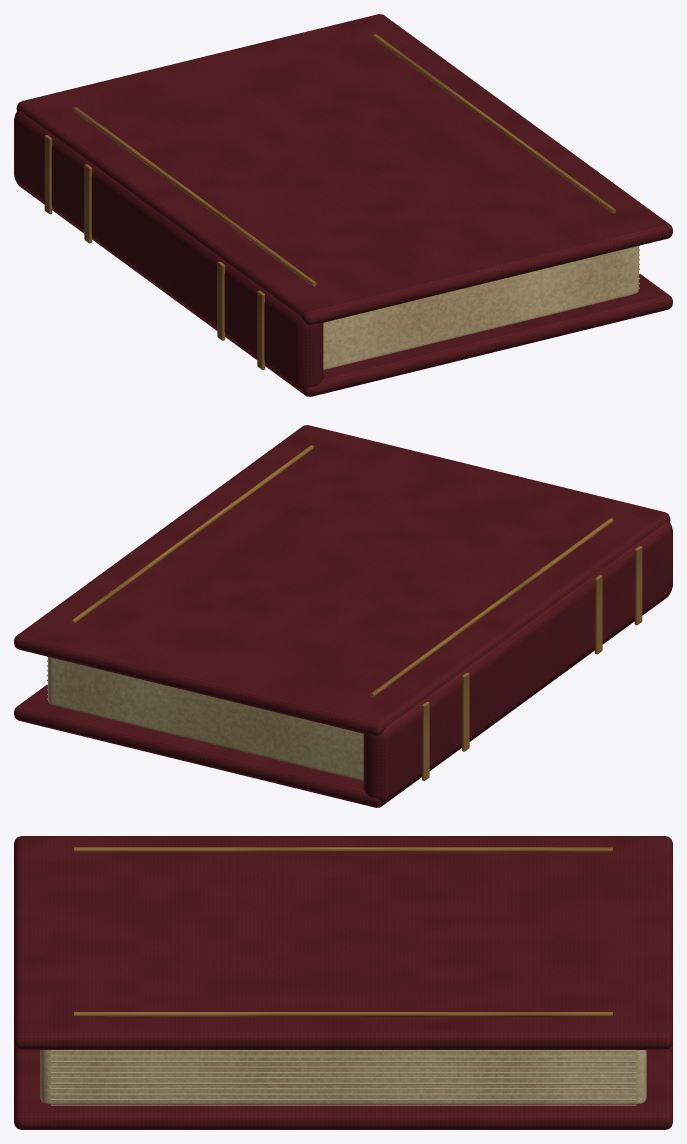
Rendered from BookRedDetail.fbx.
3 renders of one model, top to bottom at view 1: azimuth 30°, elevation 25°; view 2: azimuth 150°, elevation 25°; view 3: azimuth 270°, elevation 25°, orthographic. The views are drawn at different scales.
Parts seen in each view (by area): view 1: BookRedDetail_BurgundyFabric, BookRedDetail_Paper, BookRedDetail_Brass; view 2: BookRedDetail_BurgundyFabric, BookRedDetail_Paper, BookRedDetail_Brass; view 3: BookRedDetail_BurgundyFabric, BookRedDetail_Paper, BookRedDetail_Linen, BookRedDetail_Brass.
Part boxes in pixels (x1=…): BookRedDetail_BurgundyFabric: x1=14, y1=14, x2=672, y2=396; BookRedDetail_Paper: x1=323, y1=246, x2=638, y2=369; BookRedDetail_Brass: x1=44, y1=34, x2=616, y2=369; BookRedDetail_BurgundyFabric: x1=14, y1=425, x2=672, y2=807; BookRedDetail_Paper: x1=48, y1=657, x2=363, y2=780; BookRedDetail_Brass: x1=70, y1=445, x2=642, y2=780; BookRedDetail_BurgundyFabric: x1=14, y1=836, x2=672, y2=1129; BookRedDetail_Paper: x1=40, y1=1050, x2=646, y2=1103; BookRedDetail_Linen: x1=50, y1=1050, x2=636, y2=1105; BookRedDetail_Brass: x1=74, y1=847, x2=612, y2=1016.
Size of the model in its own units: 32.65 by 7.48 by 44.
